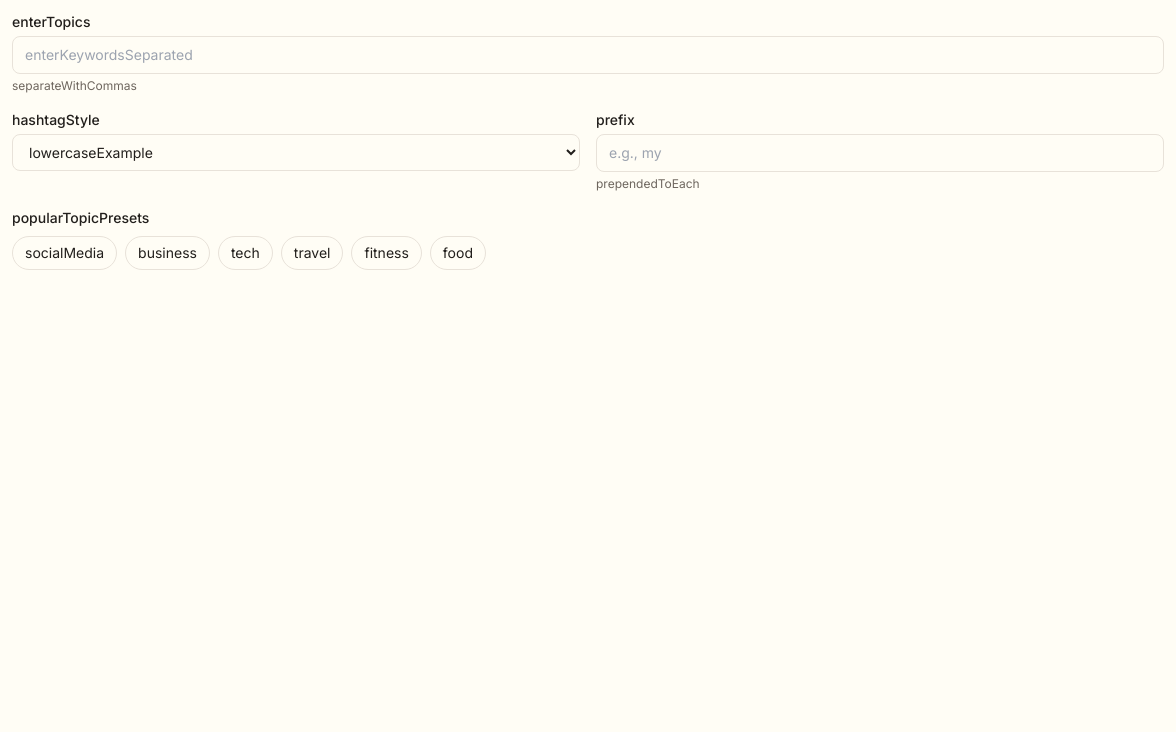
HashtagGenerator › selects a popular topic category
Click the button "tech".
click(245, 253)  # box left=218, top=236, right=273, bottom=270
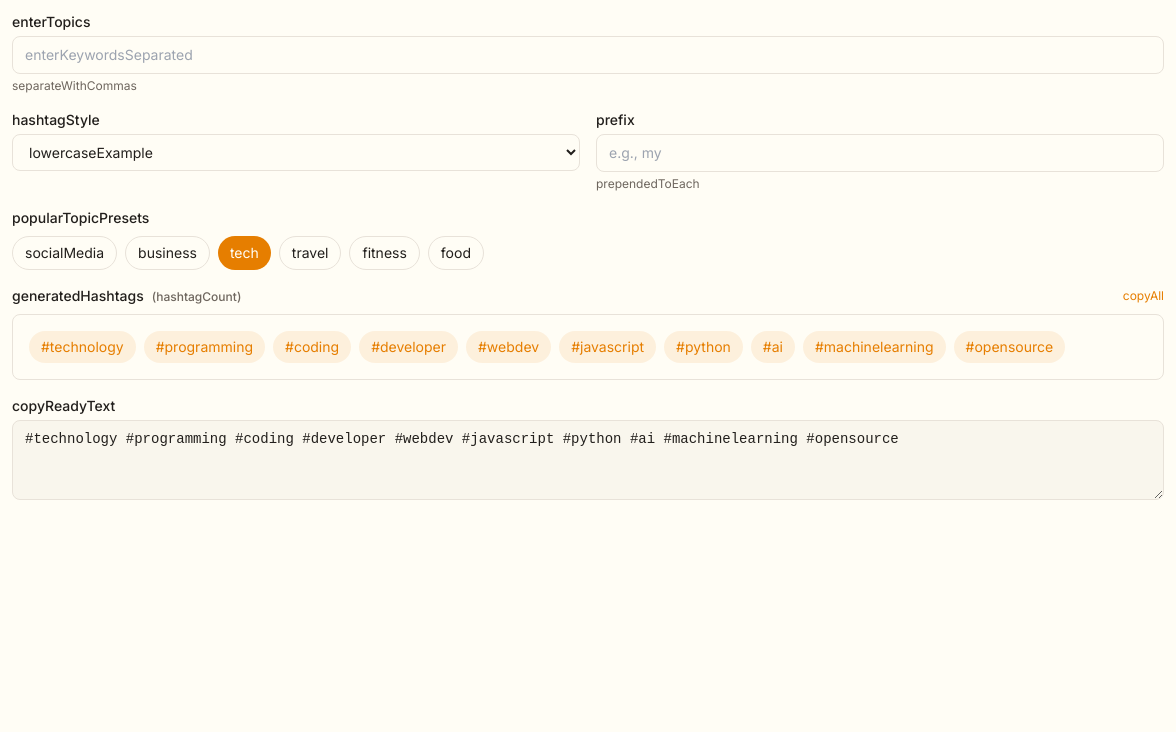
Now the button "#technology" is shown, box left=29, top=331, right=136, bottom=363
Now the button "#programming" is shown, box left=144, top=331, right=265, bottom=363
Now the button "#javascript" is shown, box left=559, top=331, right=656, bottom=363
